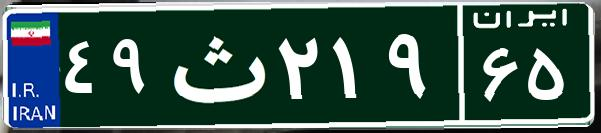1: (330, 28, 385, 110)
2: (273, 28, 330, 110)
4: (57, 26, 110, 107)
5: (525, 38, 570, 115)
6: (475, 38, 525, 113)
9: (385, 28, 445, 110), (110, 28, 158, 105)
ث: (158, 15, 273, 115)
